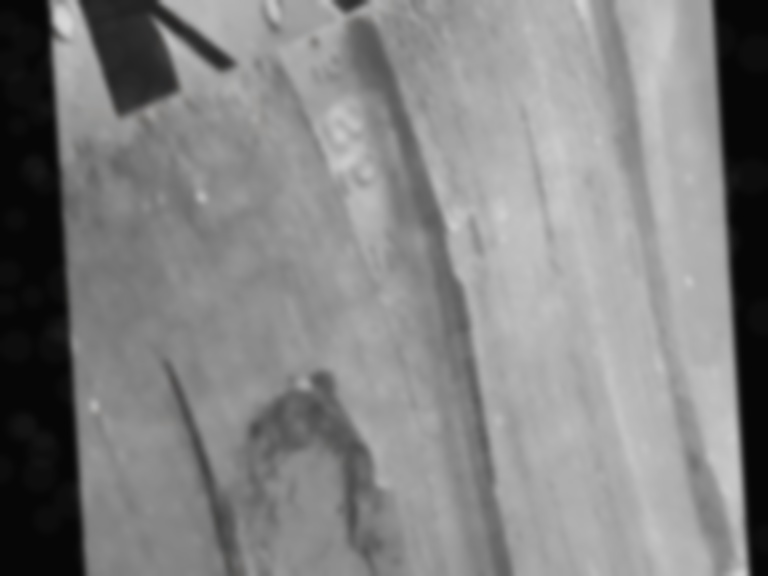temoin:0: (428, 200, 500, 305)
